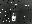person: (12, 9, 19, 21)
